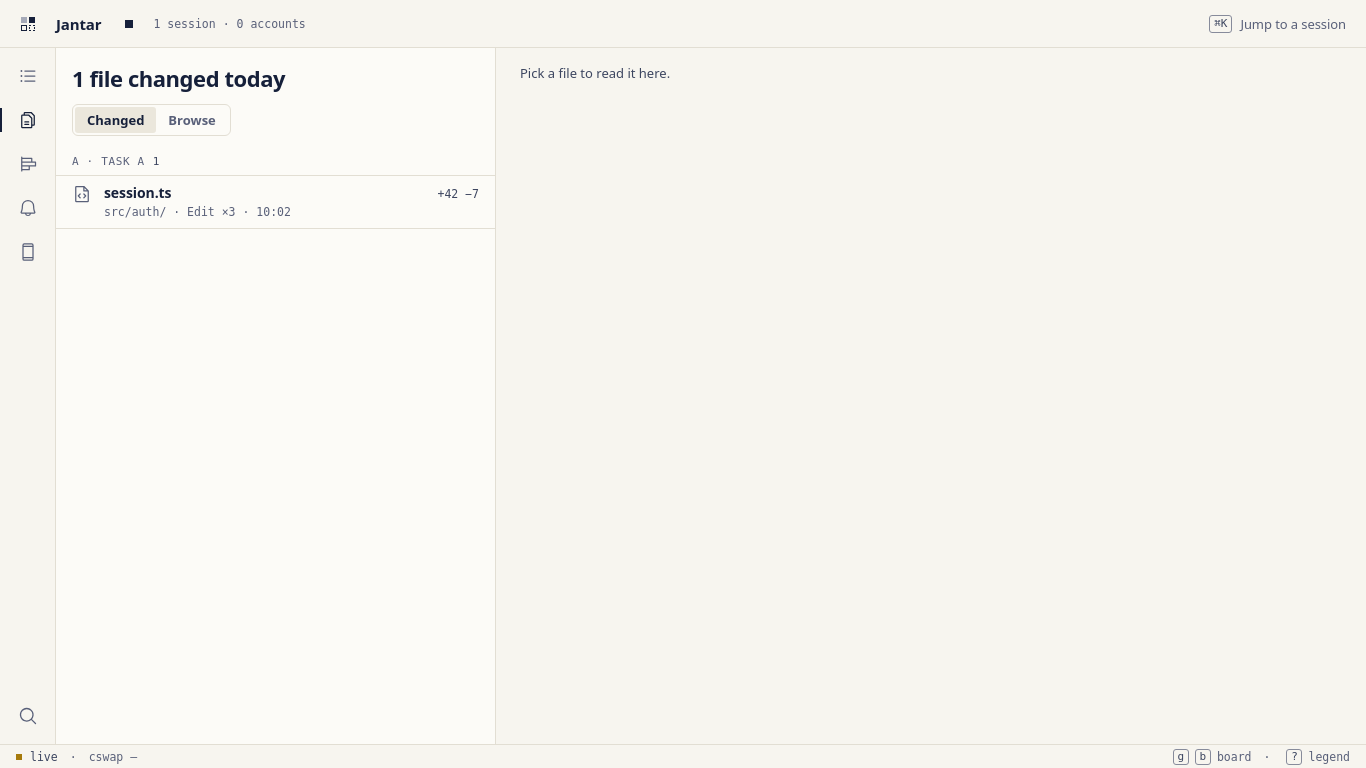
Scenario: the Files place: changed files › desktop: the list in the ledger column, the viewer in the detail pane
expect the text "Pick a file to read it here." is shown: met, box [520,64,670,82]
Click the button "session.ts +42 −7 src/auth/ · Edit ×3 · 10:02".
click(276, 202)  # box [56,176,495,228]
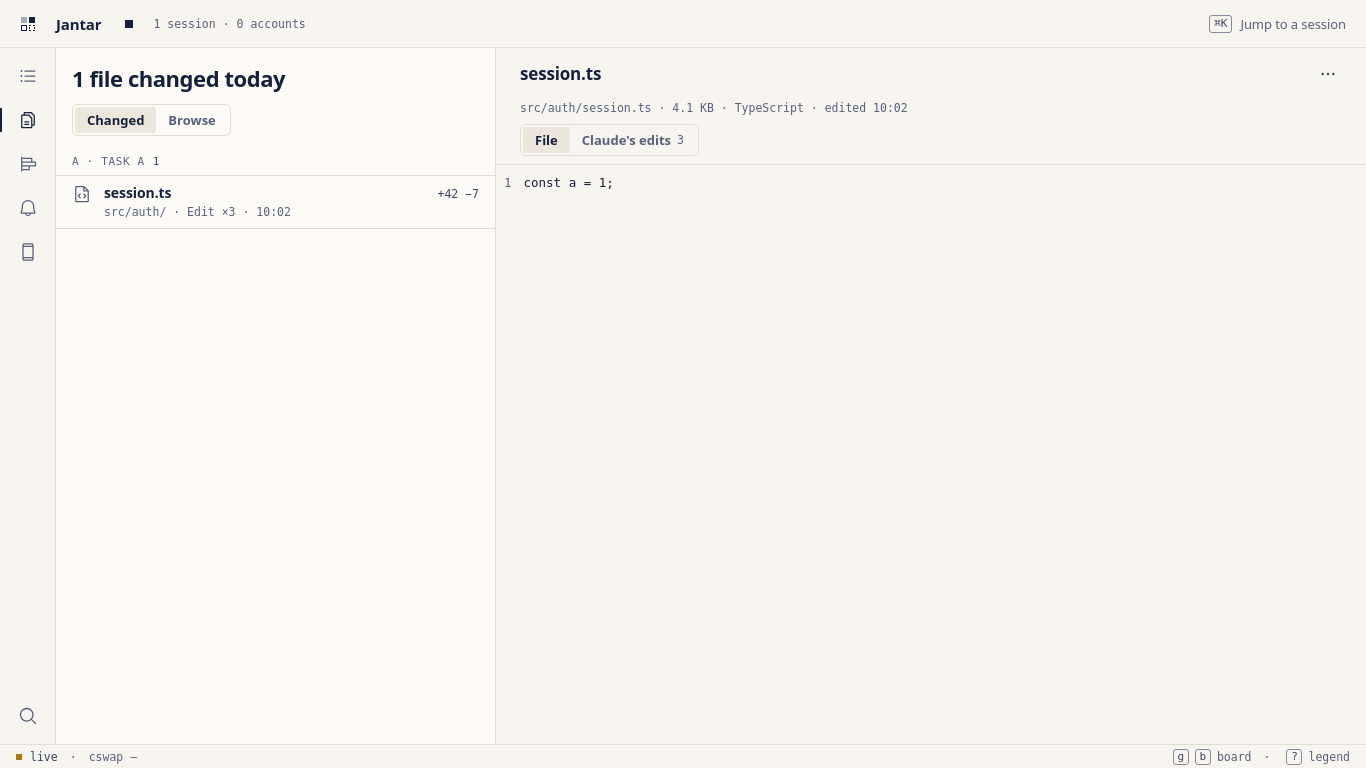
expect the list named "Changed files" is shown: met, box [56,148,495,229]
expect the heading "session.ts" is shown: met, box [520,62,601,85]
